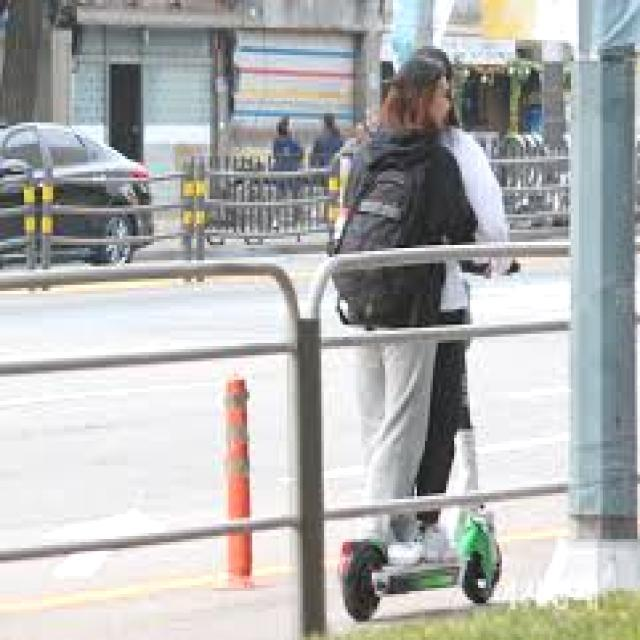bare_head: (381, 57, 456, 131), (404, 46, 461, 124)
human: (340, 59, 445, 565), (398, 47, 502, 553)
kickboard: (337, 522, 507, 629)
